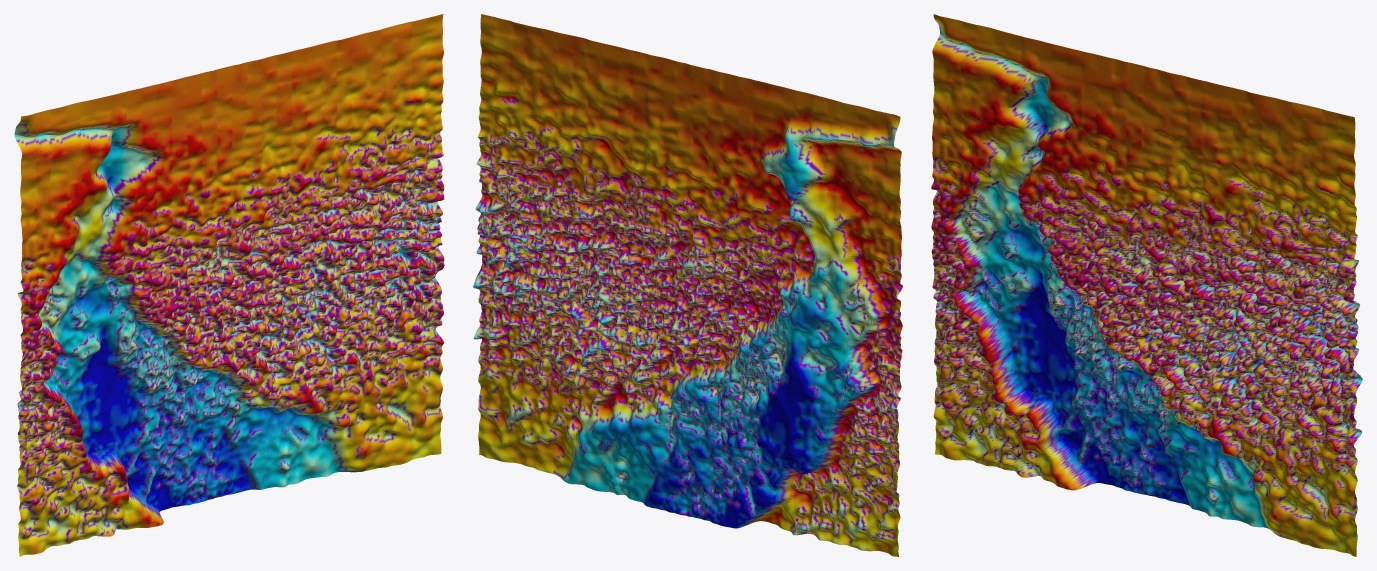
3 views of the same model, side by side, from view 1: azimuth 30°, elevation 25°; view 2: azimuth 150°, elevation 25°; view 3: azimuth 330°, elevation 25° (orthographic).
Visible parts, largest first — view 1: world; view 2: world; view 3: world.
Part boxes in pixels (x1,y1,x2,y2): world: [14, 14, 444, 556]; world: [473, 14, 902, 556]; world: [931, 14, 1362, 556].
Size of the model in its own units: 299 by 299 by 22.
